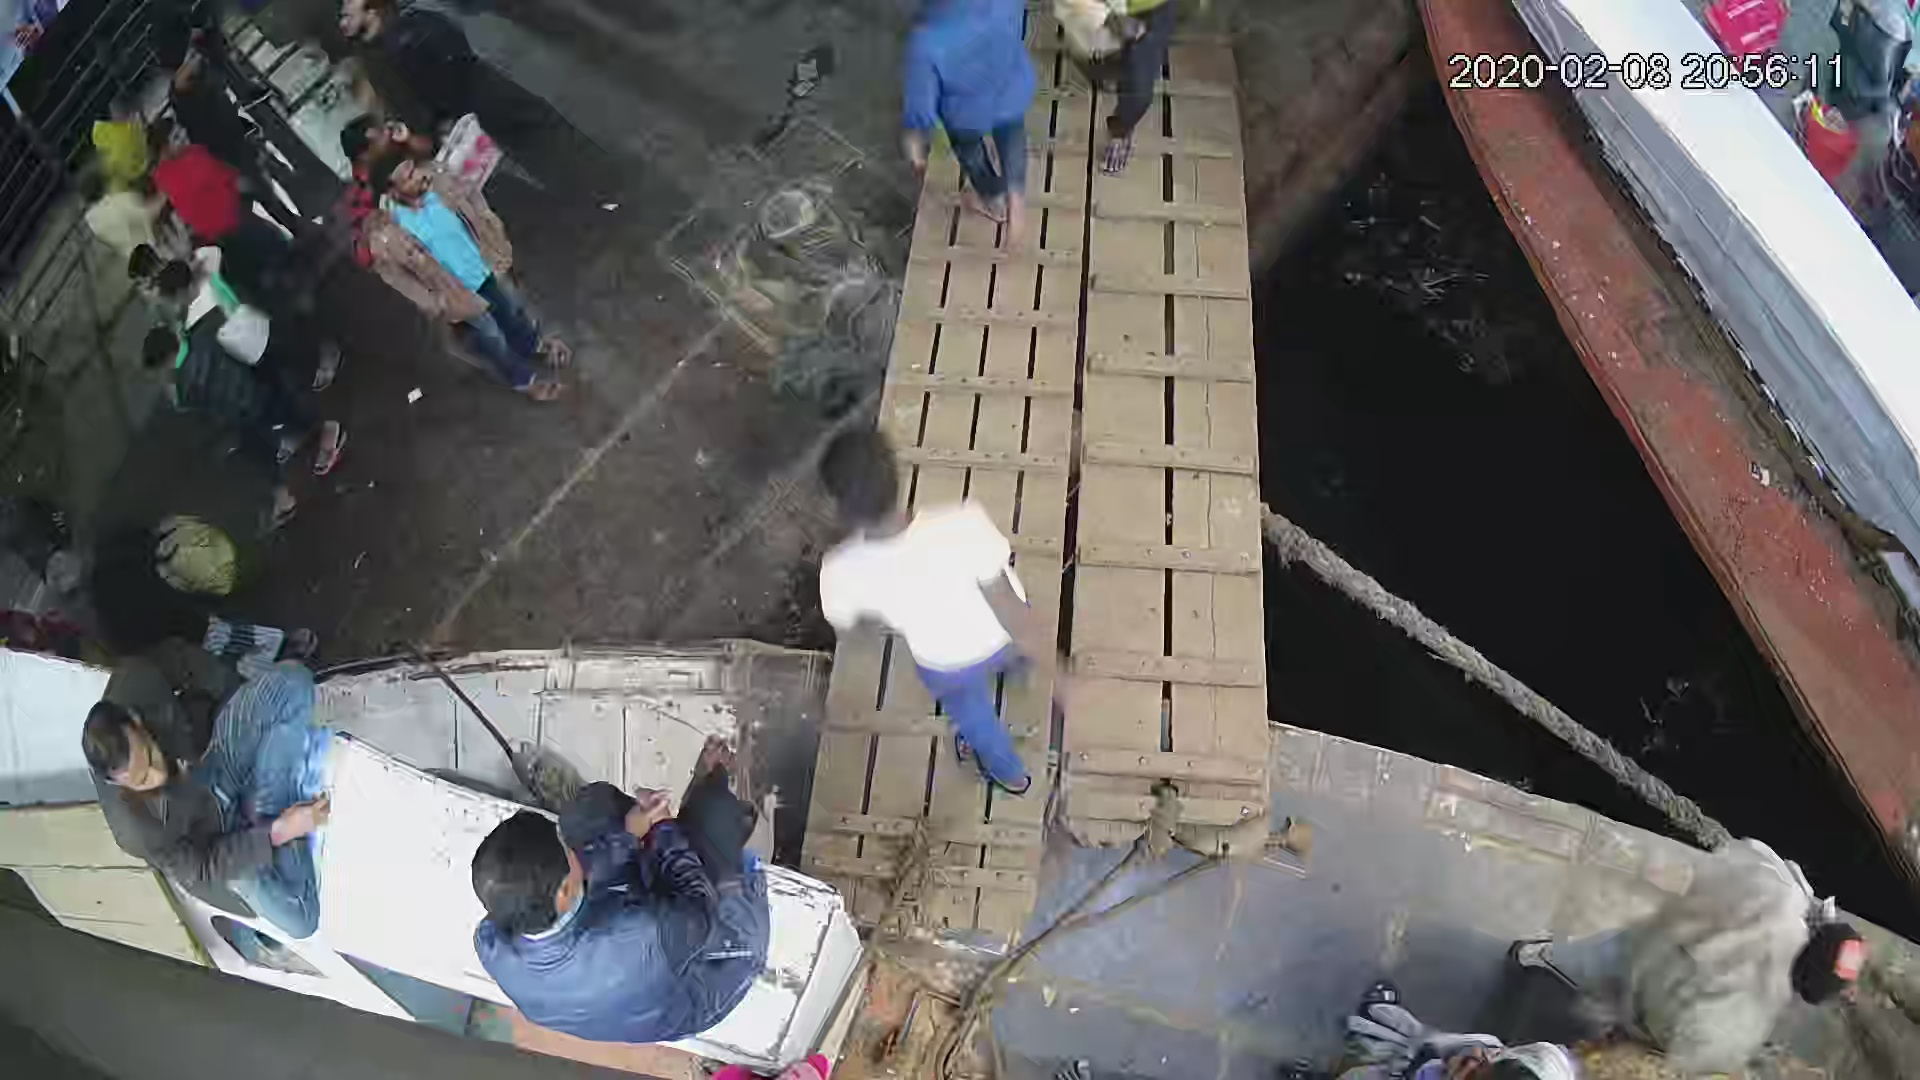person: (466, 731, 773, 1045), (809, 423, 1062, 803), (1515, 829, 1870, 1060), (77, 632, 329, 942), (363, 143, 576, 408), (134, 324, 357, 540), (893, 1, 1045, 261), (151, 118, 320, 294), (158, 258, 350, 387), (1050, 1, 1191, 166)
